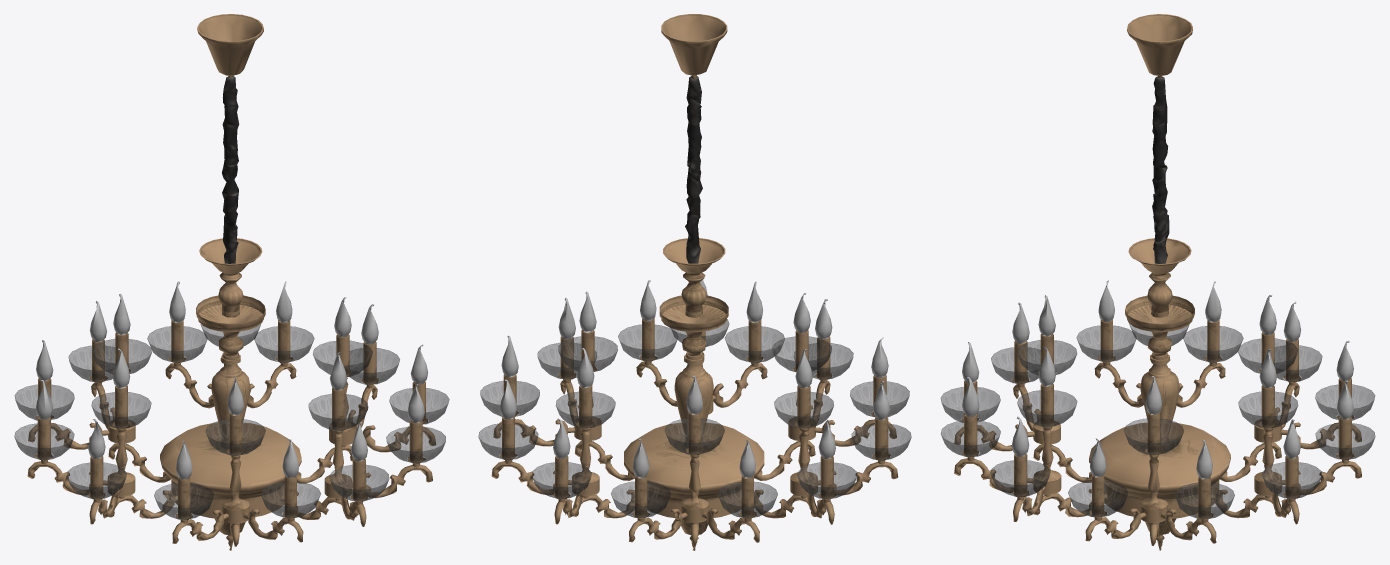
The model's file is Chandelier_03.glb.
3 renders of one model, left to right at view 1: azimuth 30°, elevation 25°; view 2: azimuth 150°, elevation 25°; view 3: azimuth 270°, elevation 25°, orthographic.
Parts seen in each view (by area): view 1: Chandelier_03; view 2: Chandelier_03; view 3: Chandelier_03.
Boxes of the visible parts, bbox=[...] form: Chandelier_03: bbox=[14, 14, 449, 550]; Chandelier_03: bbox=[478, 14, 911, 550]; Chandelier_03: bbox=[940, 14, 1375, 550].
Bounding box in the file's own units: 0.7804 × 1.04 × 0.7852.
2 materials, 2 textured.
